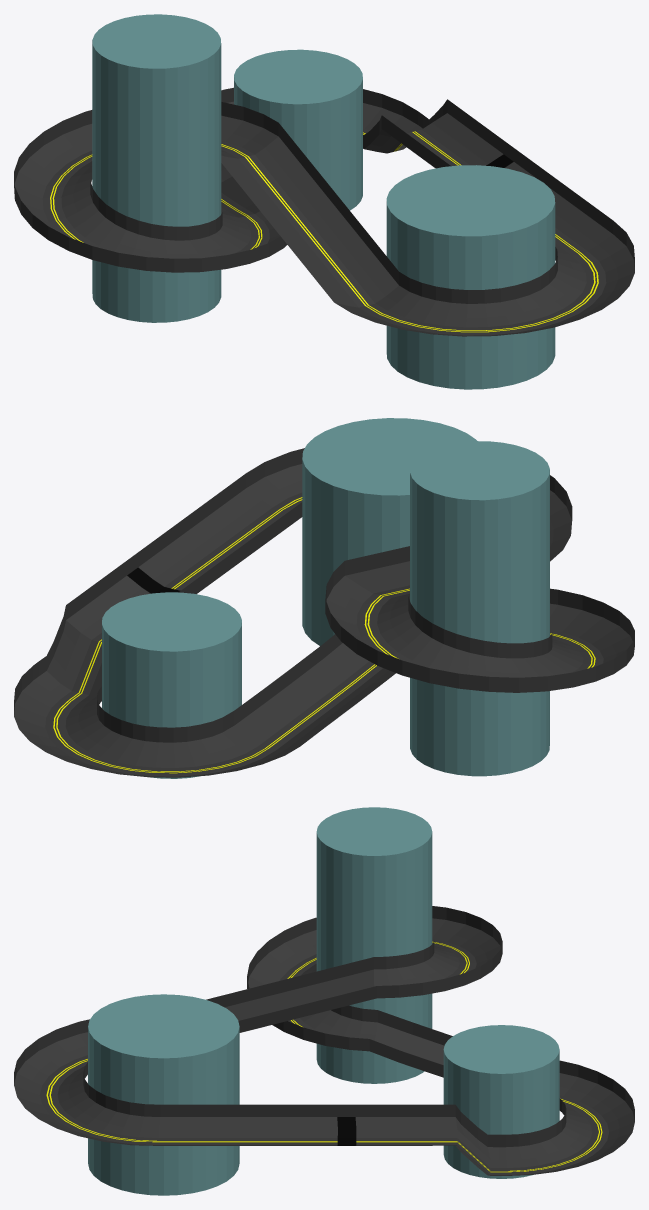
The model's file is PistaMultiplayer.fbx.
The picture shows the model from 3 angles, top to bottom: view 1: azimuth 30°, elevation 25°; view 2: azimuth 150°, elevation 25°; view 3: azimuth 270°, elevation 25°; orthographic projection. The views are drawn at different scales.
Parts seen in each view (by area): view 1: Plane; view 2: Plane; view 3: Plane.
Boxes of the visible parts, x1=… form: Plane: x1=14, y1=14, x2=634, y2=389; Plane: x1=14, y1=418, x2=634, y2=778; Plane: x1=14, y1=807, x2=634, y2=1195.
Bounding box in the file's own units: 5740 × 3273 × 7490.
